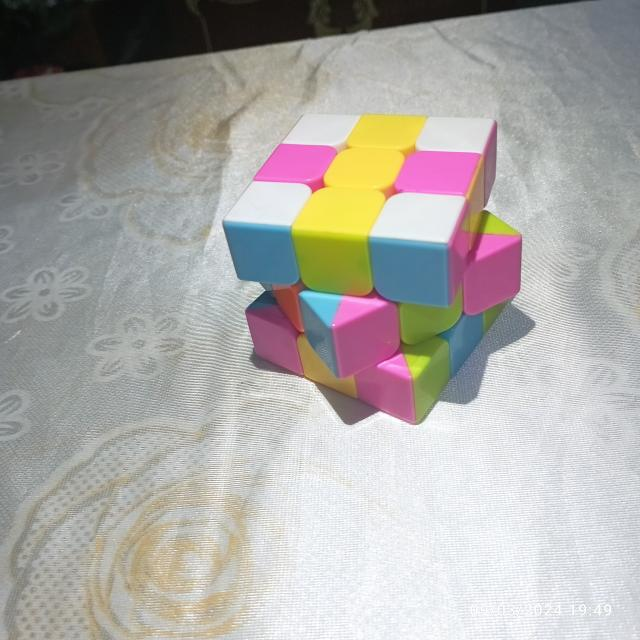Rub: (220, 89, 526, 431)
